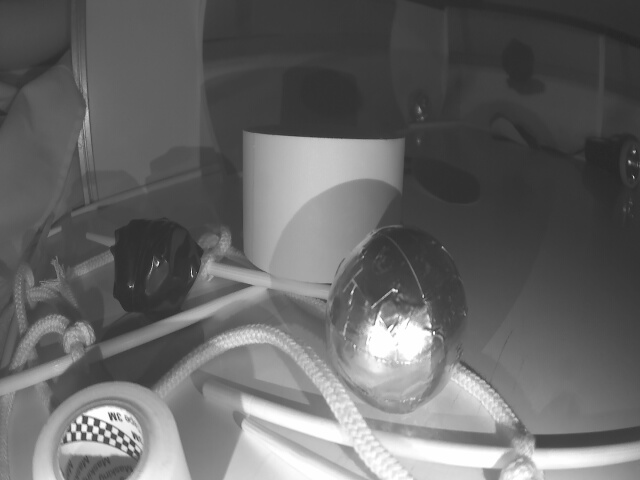Dead: (111, 216, 203, 322)
Live: (325, 221, 469, 414), (410, 91, 432, 122)
